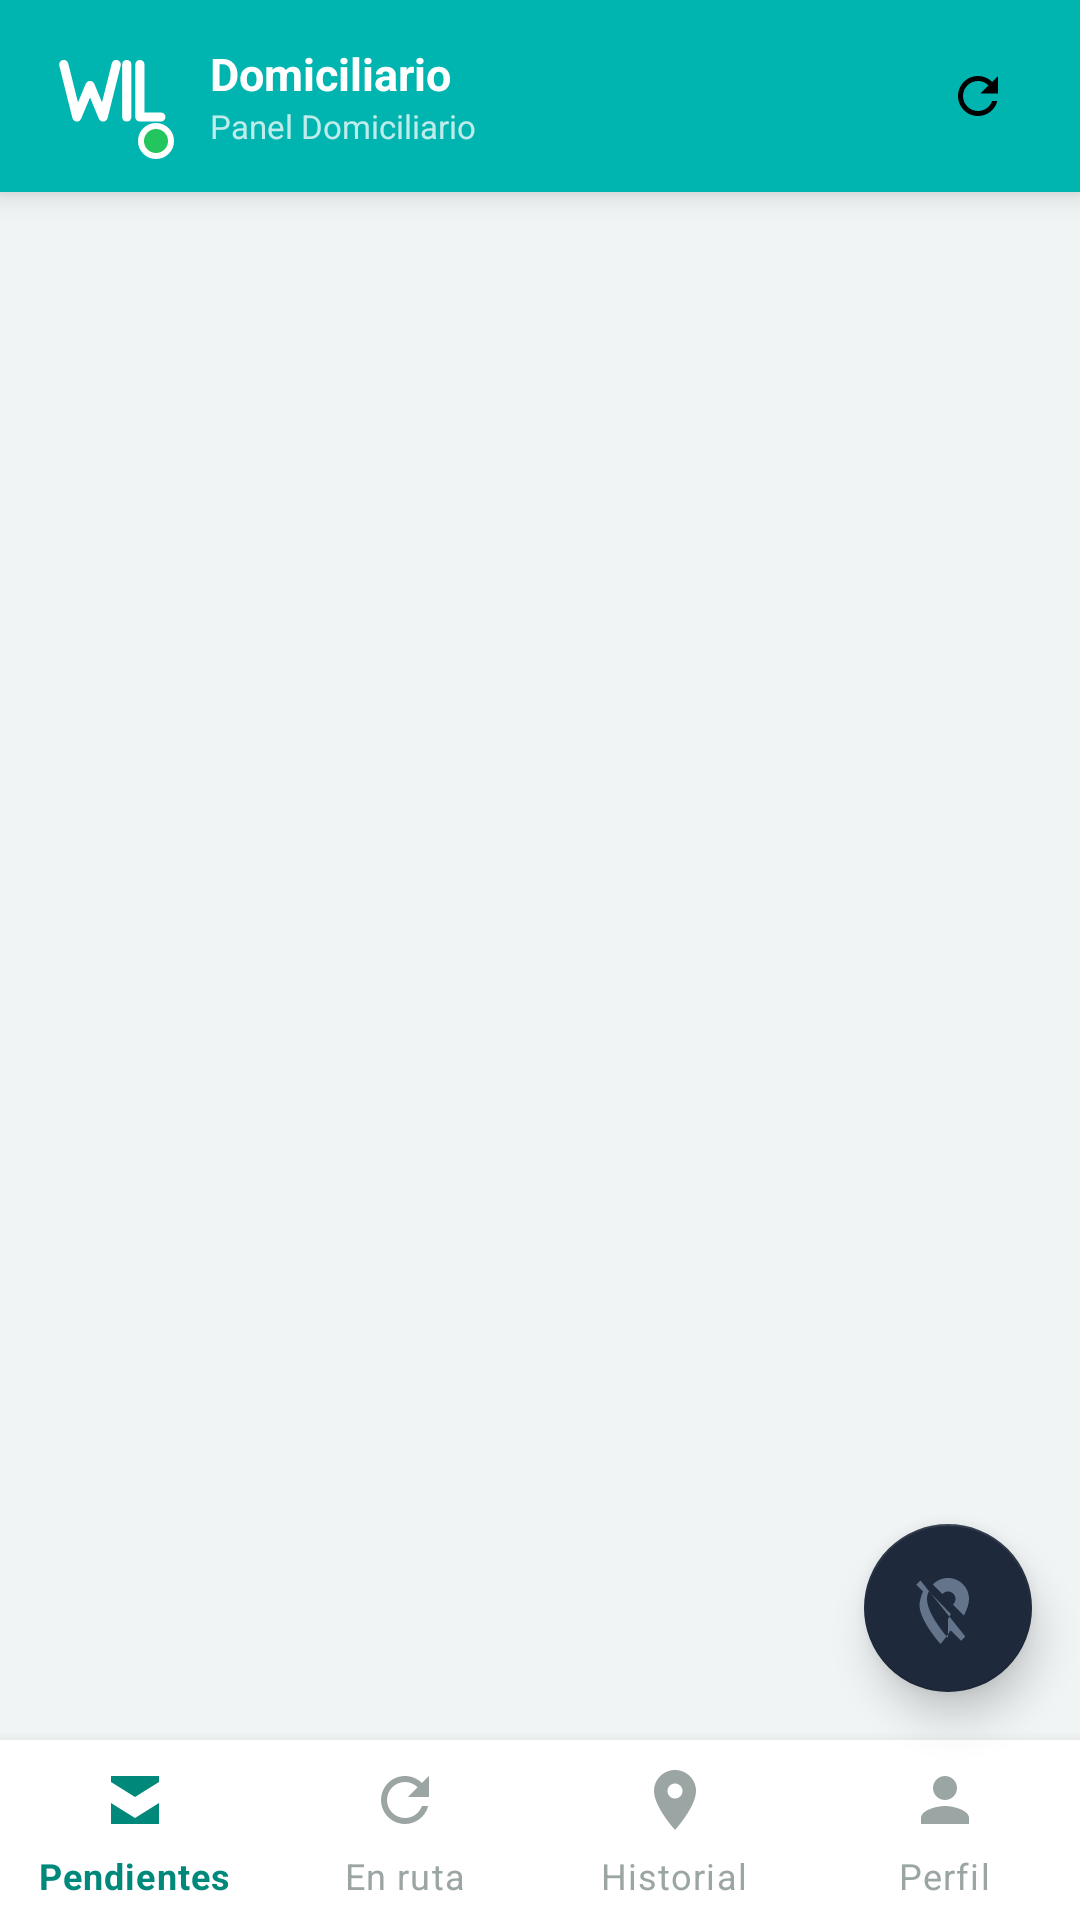

Icon click points for this 1080px×1920px phone screenshot, format (x=x, y=y):
Actualizar: (x=978, y=96)
Rastreador GPS: (x=948, y=1608)
